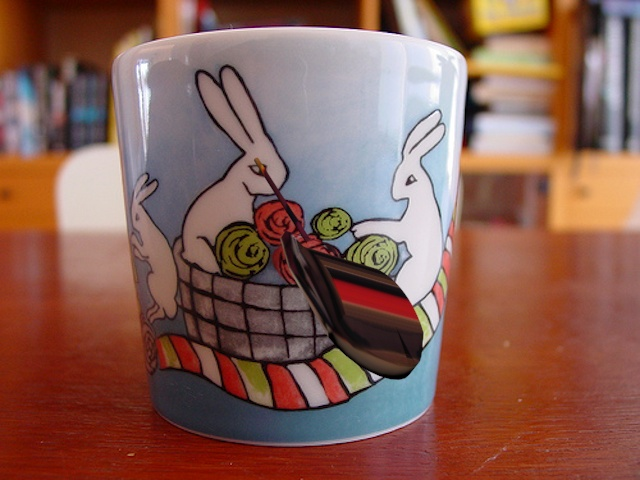mouse: (241, 144, 433, 384)
